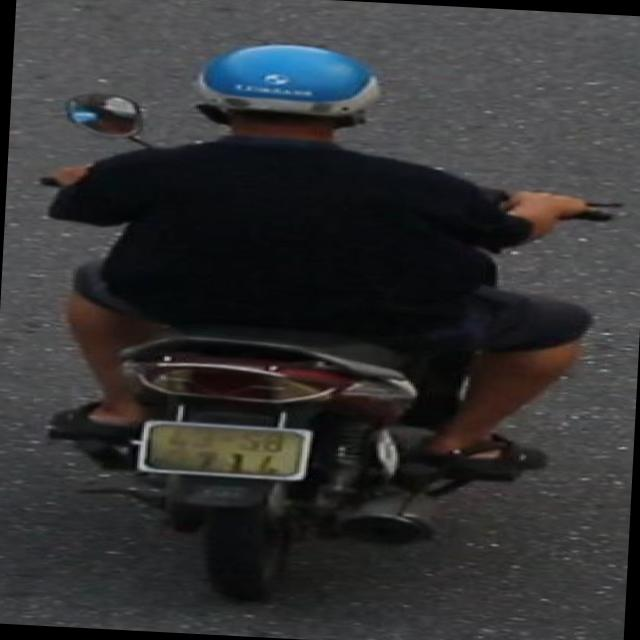LP: (126, 412, 322, 484)
helmet: (175, 32, 402, 156)
